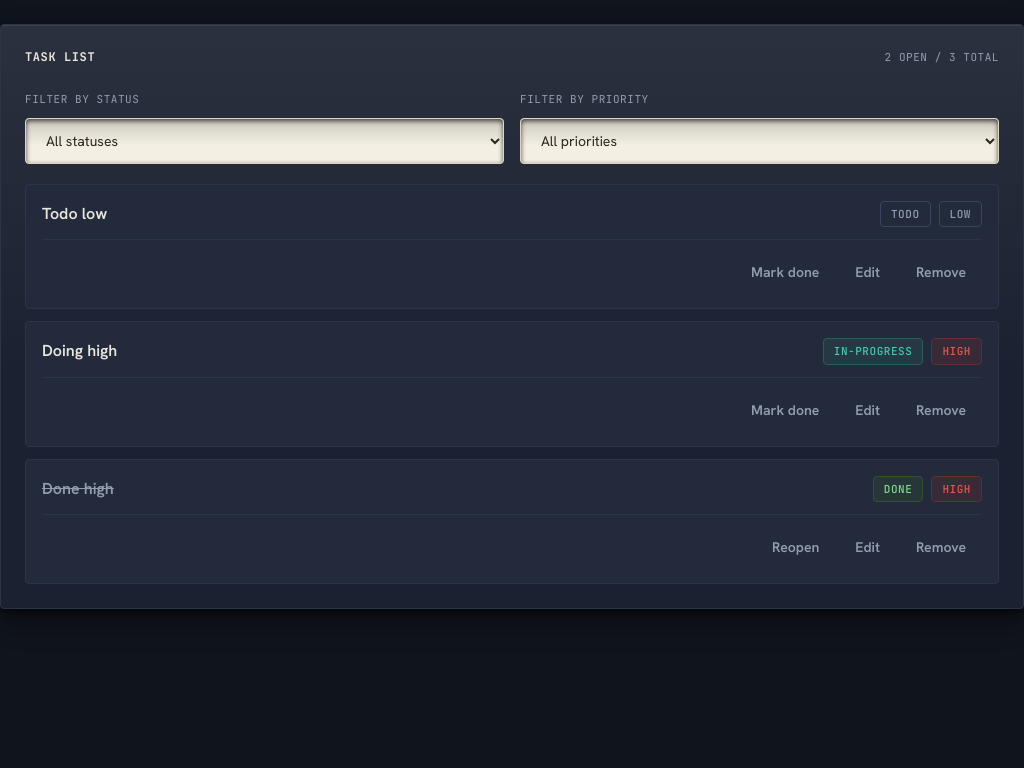
Test: TaskList filtering › narrows by status
Select "Done" in the dropdown labelled "Filter by status" at (264, 140), box [25,118,504,164]
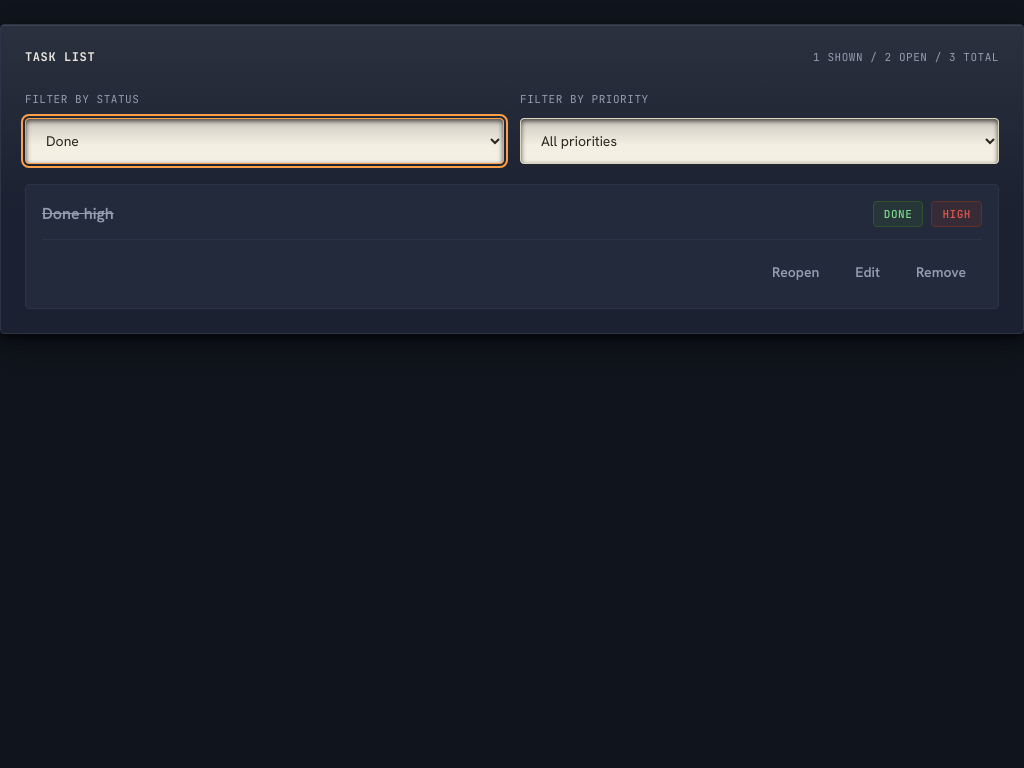
Expected: the text "Done high" is shown, [42,202,114,226]
Now the text "Todo low" is gone
